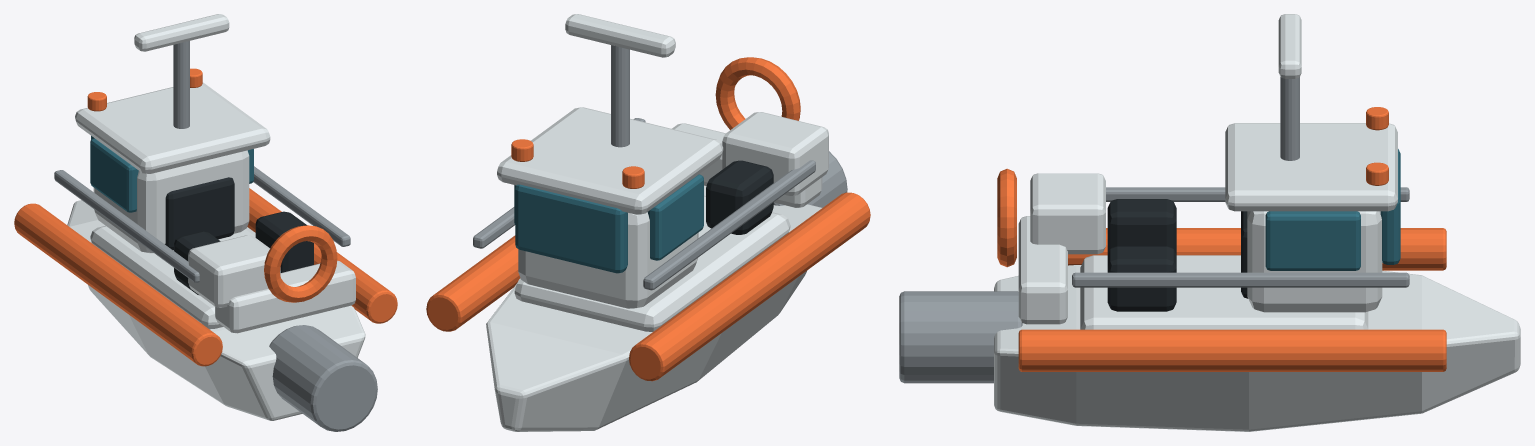
The model's file is RescueBoat_Blockout.fbx.
The picture shows the model from 3 angles, left to right: view 1: azimuth 30°, elevation 25°; view 2: azimuth 150°, elevation 25°; view 3: azimuth 270°, elevation 25°; orthographic projection. The views are drawn at different scales.
Parts seen in each view (by area): view 1: RescueBoat_Hull, RescueBoat_CabinRoof, RescueBoat_PortCollar, RescueBoat_Engine, RescueBoat_Cabin, RescueBoat_SternBench, RescueBoat_RescueCrate, RescueBoat_DeckInsert, RescueBoat_ControlConsole, RescueBoat_LifeRing, RescueBoat, RescueBoat_StarboardCollar (+5 smaller); view 2: RescueBoat_Hull, RescueBoat_CabinRoof, RescueBoat_PortCollar, RescueBoat_DeckInsert, RescueBoat_Windscreen, RescueBoat_Cabin, RescueBoat_RescueCrate, RescueBoat_StarboardCollar, RescueBoat_PortGrabRail, RescueBoat, RescueBoat_PortWindow, RescueBoat_LifeRing (+7 smaller); view 3: RescueBoat_Hull, RescueBoat_StarboardCollar, RescueBoat_CabinRoof, RescueBoat_Engine, RescueBoat_DeckInsert, RescueBoat, RescueBoat_Cabin, RescueBoat_RescueCrate, RescueBoat_StarboardWindow, RescueBoat_StarboardGrabRail, RescueBoat_SternBench, RescueBoat_PortCollar (+5 smaller).
Part boxes in pixels (<box>): RescueBoat_Hull: <box>67,200,365,420</box>; RescueBoat_CabinRoof: <box>75,82,270,173</box>; RescueBoat_PortCollar: <box>14,203,222,366</box>; RescueBoat_Engine: <box>269,325,377,431</box>; RescueBoat_Cabin: <box>93,150,249,253</box>; RescueBoat_SternBench: <box>215,260,355,333</box>; RescueBoat_RescueCrate: <box>188,235,280,307</box>; RescueBoat_DeckInsert: <box>90,225,255,329</box>; RescueBoat_ControlConsole: <box>165,177,234,250</box>; RescueBoat_LifeRing: <box>264,225,337,302</box>; RescueBoat: <box>174,211,313,294</box>; RescueBoat_StarboardCollar: <box>247,188,397,323</box>; RescueBoat_Hull: <box>486,185,821,431</box>; RescueBoat_CabinRoof: <box>497,107,723,214</box>; RescueBoat_PortCollar: <box>629,192,870,381</box>; RescueBoat_DeckInsert: <box>514,195,790,331</box>; RescueBoat_Windscreen: <box>515,184,627,273</box>; RescueBoat_Cabin: <box>518,212,698,308</box>; RescueBoat_RescueCrate: <box>722,112,828,195</box>; RescueBoat_StarboardCollar: <box>426,235,520,331</box>; RescueBoat_PortGrabRail: <box>643,160,815,290</box>; RescueBoat: <box>706,160,773,234</box>; RescueBoat_PortWindow: <box>647,174,703,260</box>; RescueBoat_LifeRing: <box>715,57,800,129</box>; RescueBoat_Hull: <box>994,265,1520,431</box>; RescueBoat_StarboardCollar: <box>1018,329,1446,371</box>; RescueBoat_CabinRoof: <box>1225,123,1397,211</box>; RescueBoat_Engine: <box>899,291,1022,383</box>; RescueBoat_DeckInsert: <box>1080,255,1368,329</box>; RescueBoat: <box>1107,199,1176,311</box>; RescueBoat_Cabin: <box>1247,211,1382,312</box>; RescueBoat_RescueCrate: <box>1030,173,1105,254</box>; RescueBoat_StarboardWindow: <box>1265,211,1360,270</box>; RescueBoat_StarboardGrabRail: <box>1072,272,1409,287</box>; RescueBoat_SternBench: <box>1018,216,1067,324</box>; RescueBoat_PortCollar: <box>1068,228,1446,270</box>.
Bounding box in the file's own units: 0.172 × 0.247 × 0.3775.
